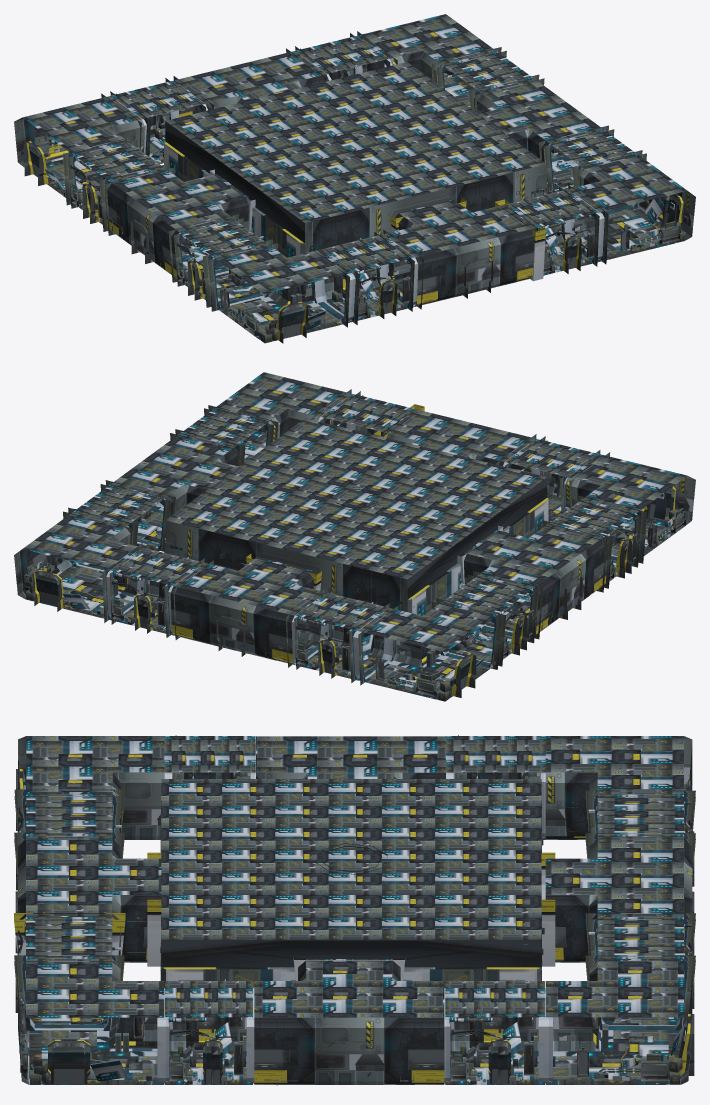
The model's file is Combined_Mesh_root_scene__16_1995fef1__ZombiesII_laboratory_08_d_36b73b52_c1f257.obj.
The picture shows the model from 3 angles, top to bottom: view 1: azimuth 30°, elevation 25°; view 2: azimuth 150°, elevation 25°; view 3: azimuth 270°, elevation 25°; orthographic projection. The views are drawn at different scales.
Size of the model in its own units: 72.61 by 10.34 by 71.75.
Materials: 726 (726 with a texture image).
